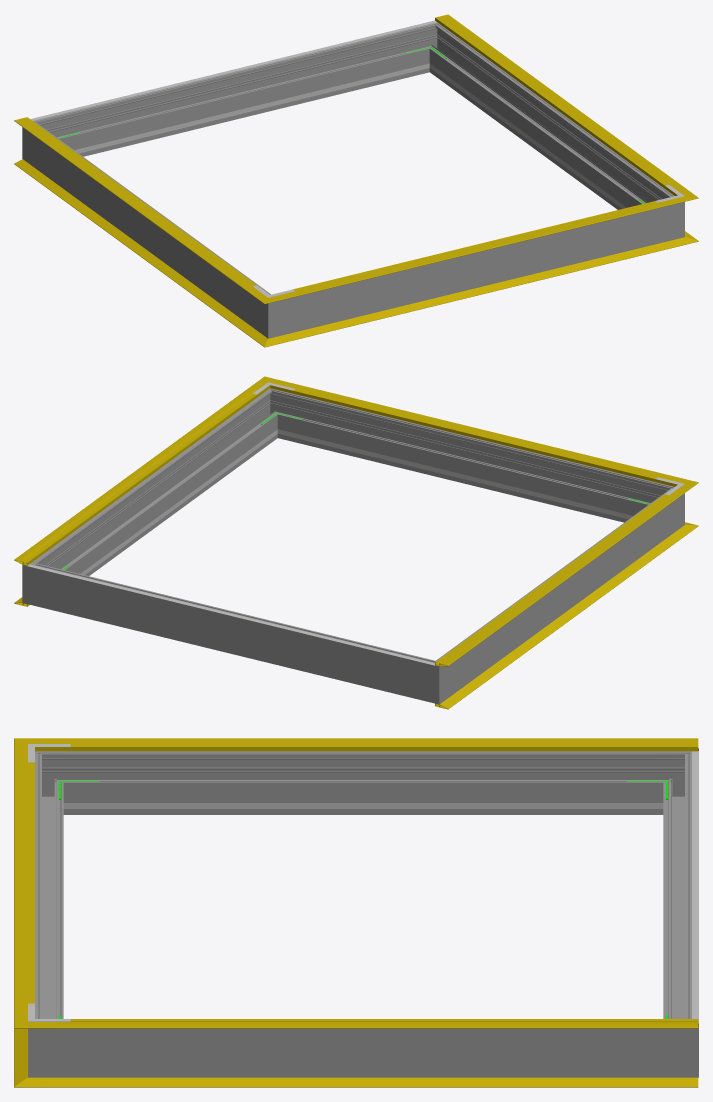
3 views of the same model, one above another, from view 1: azimuth 30°, elevation 25°; view 2: azimuth 150°, elevation 25°; view 3: azimuth 270°, elevation 25° (orthographic). The views are drawn at different scales.
Parts seen in each view (by area): view 1: 3DGeom-276, 3DGeom-298, 3DGeom-297, 3DGeom-268, 3DGeom-28, 3DGeom-145, 3DGeom-38, 3DGeom-141, 3DGeom-147, 3DGeom-244, 3DGeom-270, 3DGeom-220 (+7 smaller); view 2: 3DGeom-298, 3DGeom-276, 3DGeom-297, 3DGeom-268, 3DGeom-141, 3DGeom-145, 3DGeom-38, 3DGeom-147, 3DGeom-278, 3DGeom-239, 3DGeom-220, 3DGeom-284 (+6 smaller); view 3: 3DGeom-268, 3DGeom-297, 3DGeom-30, 3DGeom-147, 3DGeom-276, 3DGeom-298, 3DGeom-145, 3DGeom-141, 3DGeom-232, 3DGeom-284, 3DGeom-290, 3DGeom-152 (+8 smaller).
Boxes of the visible parts, x1=… form: 3DGeom-276: x1=52, y1=28, x2=425, y2=156; 3DGeom-298: x1=295, y1=208, x2=657, y2=331; 3DGeom-297: x1=432, y1=32, x2=664, y2=209; 3DGeom-268: x1=38, y1=130, x2=260, y2=326; 3DGeom-28: x1=287, y1=241, x2=671, y2=340; 3DGeom-145: x1=435, y1=14, x2=682, y2=192; 3DGeom-38: x1=14, y1=159, x2=256, y2=335; 3DGeom-141: x1=287, y1=200, x2=671, y2=297; 3DGeom-147: x1=14, y1=118, x2=257, y2=292; 3DGeom-244: x1=84, y1=70, x2=403, y2=151; 3DGeom-270: x1=252, y1=287, x2=295, y2=338; 3DGeom-220: x1=30, y1=20, x2=436, y2=120; 3DGeom-298: x1=282, y1=394, x2=655, y2=522; 3DGeom-276: x1=49, y1=568, x2=416, y2=697; 3DGeom-297: x1=42, y1=398, x2=275, y2=575; 3DGeom-268: x1=446, y1=496, x2=669, y2=692; 3DGeom-141: x1=284, y1=383, x2=671, y2=483; 3DGeom-145: x1=14, y1=388, x2=262, y2=565; 3DGeom-38: x1=435, y1=532, x2=683, y2=709; 3DGeom-147: x1=435, y1=491, x2=682, y2=666; 3DGeom-278: x1=412, y1=653, x2=454, y2=704; 3DGeom-239: x1=304, y1=435, x2=623, y2=517; 3DGeom-220: x1=27, y1=564, x2=434, y2=665; 3DGeom-284: x1=22, y1=554, x2=54, y2=609; 3DGeom-268: x1=70, y1=751, x2=656, y2=814; 3DGeom-297: x1=70, y1=1028, x2=656, y2=1077; 3DGeom-30: x1=56, y1=1077, x2=698, y2=1087; 3DGeom-147: x1=56, y1=738, x2=698, y2=751; 3DGeom-276: x1=663, y1=766, x2=691, y2=1018; 3DGeom-298: x1=35, y1=766, x2=63, y2=1018; 3DGeom-145: x1=56, y1=1022, x2=698, y2=1028; 3DGeom-141: x1=14, y1=756, x2=27, y2=1009; 3DGeom-232: x1=104, y1=803, x2=621, y2=808; 3DGeom-284: x1=656, y1=1008, x2=698, y2=1077; 3DGeom-290: x1=28, y1=1008, x2=70, y2=1077; 3DGeom-152: x1=70, y1=1019, x2=698, y2=1021.
Size of the model in its own units: 2.44 by 0.2357 by 2.44.
